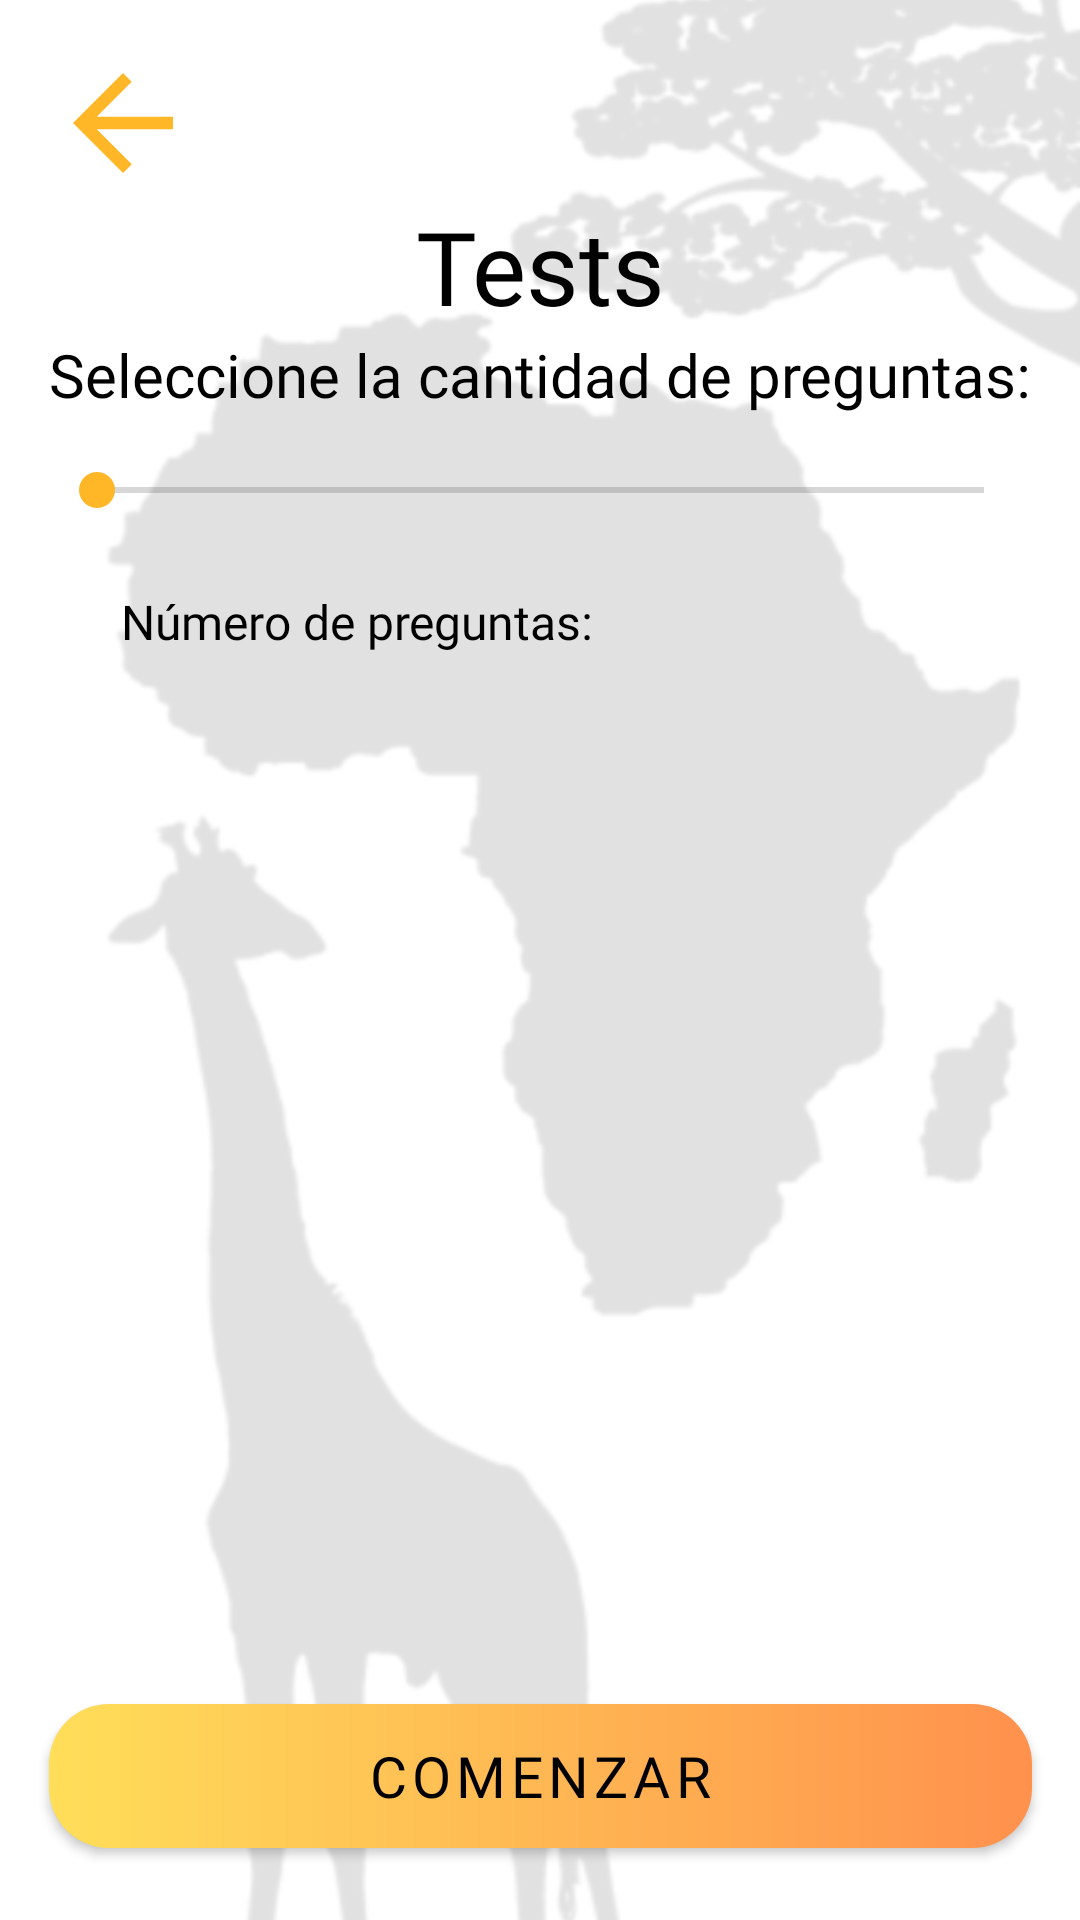

Named icons in this screenshot (1080*1920) and their bounding boxes, {"x1": x1, "y1": y1, "x2": x2, "y2": y2}:
Imagen de botón retroceso: {"x1": 73, "y1": 73, "x2": 173, "y2": 173}
